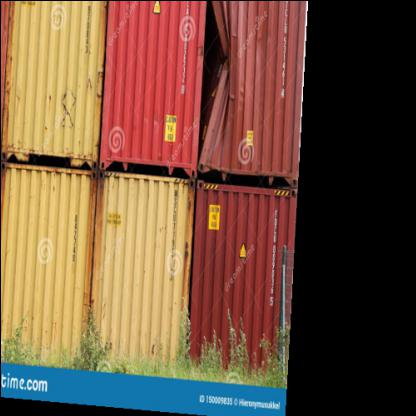Damage: (188, 12, 247, 167)
